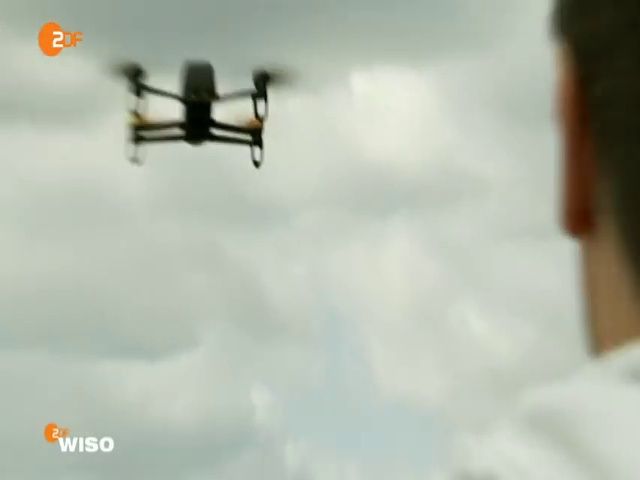drone: (104, 49, 300, 172)
